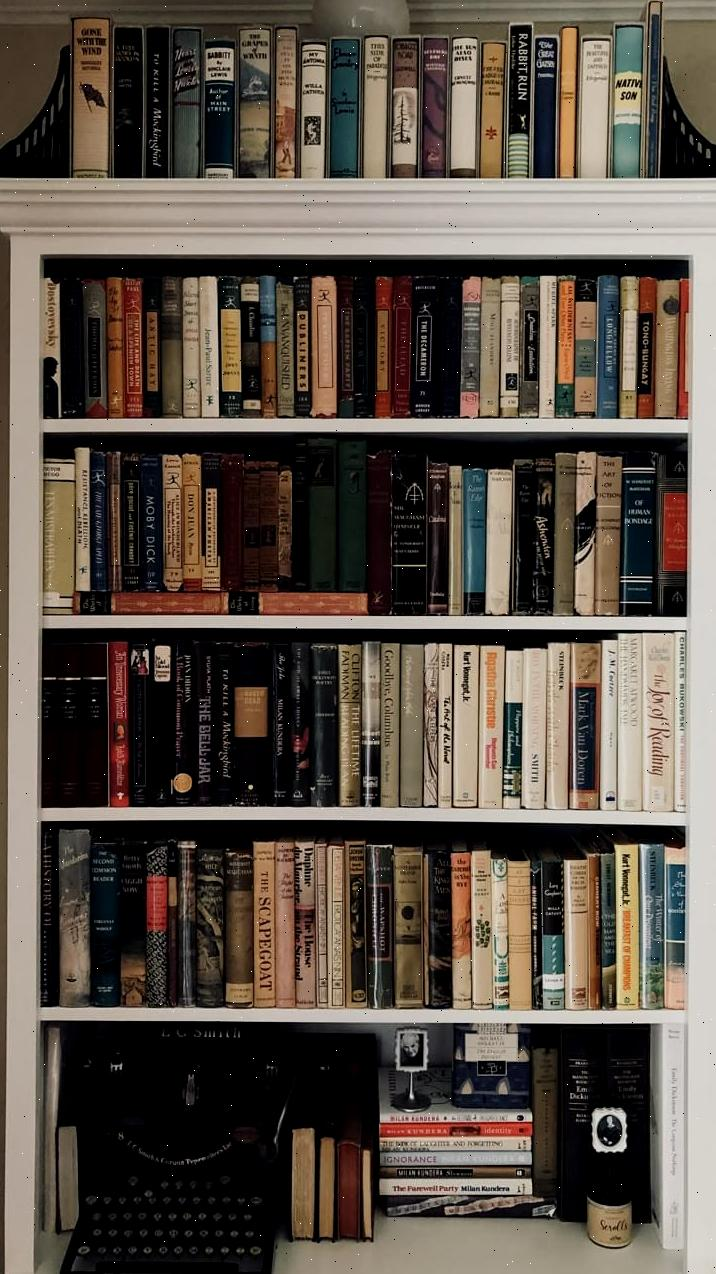book: (70, 17, 112, 177), (390, 451, 428, 613), (640, 633, 674, 814), (233, 645, 270, 810), (57, 831, 91, 1007), (620, 458, 656, 615), (654, 448, 687, 615), (90, 836, 121, 1005), (530, 1029, 560, 1198), (224, 841, 254, 1008), (393, 842, 423, 1009), (611, 26, 644, 177), (195, 844, 225, 1008), (119, 840, 148, 1008), (238, 32, 271, 178), (571, 647, 600, 813), (79, 641, 108, 807), (336, 440, 367, 594), (366, 844, 394, 1010), (112, 26, 143, 175), (56, 639, 83, 808), (578, 33, 609, 178), (311, 643, 338, 808), (203, 40, 235, 179), (594, 454, 622, 612), (613, 839, 639, 1008), (172, 28, 202, 174), (426, 836, 451, 1008), (638, 840, 663, 1010), (506, 848, 532, 1011), (366, 449, 392, 611), (151, 639, 176, 806), (662, 840, 686, 1012), (145, 841, 170, 1006), (540, 845, 565, 1007), (410, 276, 438, 419), (107, 642, 131, 808), (47, 460, 73, 613), (329, 39, 358, 176), (449, 36, 477, 177), (449, 835, 472, 1006), (391, 37, 419, 176), (344, 839, 367, 1007), (546, 643, 569, 811), (253, 840, 276, 1008), (193, 640, 216, 808), (312, 276, 339, 419), (338, 646, 361, 811), (362, 36, 389, 176), (293, 837, 315, 1008), (274, 837, 296, 1008), (421, 38, 448, 177), (552, 455, 576, 610), (654, 279, 680, 422), (219, 454, 245, 597), (145, 28, 170, 176), (299, 42, 326, 179), (532, 29, 557, 176), (59, 278, 85, 419), (213, 641, 235, 807), (507, 30, 532, 176), (426, 461, 450, 612), (574, 452, 597, 609), (531, 458, 555, 608), (400, 644, 422, 807), (274, 29, 298, 178), (437, 277, 462, 418), (471, 840, 492, 1007), (512, 462, 535, 614), (130, 640, 151, 806), (82, 279, 107, 418), (311, 440, 334, 591), (361, 642, 382, 807), (463, 468, 487, 612), (599, 640, 619, 812), (379, 645, 400, 808), (573, 276, 597, 418), (479, 40, 504, 176), (139, 453, 163, 594), (271, 643, 291, 809), (596, 276, 619, 420), (490, 842, 510, 1007), (219, 278, 242, 417), (459, 276, 482, 415), (557, 28, 578, 177), (436, 643, 455, 807), (391, 277, 413, 417), (160, 278, 182, 418), (200, 452, 222, 591), (619, 275, 640, 419), (329, 839, 347, 1006), (636, 277, 657, 419), (122, 278, 143, 418), (479, 276, 500, 416), (41, 278, 62, 418), (499, 277, 520, 417), (423, 643, 441, 806), (519, 278, 540, 417), (162, 455, 183, 593), (527, 851, 545, 1012), (89, 450, 109, 594), (180, 454, 201, 591), (240, 278, 261, 415), (258, 276, 278, 418), (142, 277, 162, 418), (105, 277, 125, 417), (556, 277, 576, 417), (74, 448, 93, 595), (121, 454, 141, 593), (351, 278, 371, 417), (275, 281, 295, 418), (293, 276, 312, 416), (374, 276, 393, 415), (336, 277, 355, 416)
